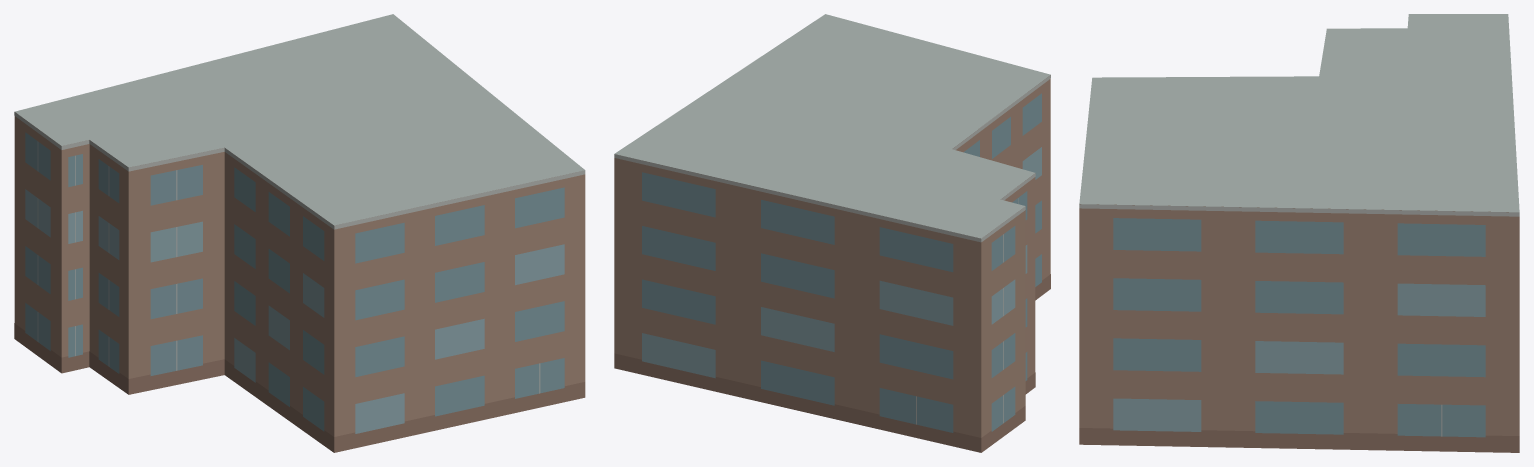
The model's file is survey-upis-33002607.glb.
3 renders of one model, left to right at view 1: azimuth 30°, elevation 25°; view 2: azimuth 150°, elevation 25°; view 3: azimuth 270°, elevation 25°, orthographic. The views are drawn at different scales.
Visible parts, largest first — view 1: survey-upis-33002607.tmp; view 2: survey-upis-33002607.tmp; view 3: survey-upis-33002607.tmp.
Part boxes in pixels (left/top/right/bottom): survey-upis-33002607.tmp: left=14, top=14, right=585, bottom=452; survey-upis-33002607.tmp: left=614, top=14, right=1050, bottom=452; survey-upis-33002607.tmp: left=1079, top=14, right=1519, bottom=452.
Size of the model in its own units: 23.88 by 13.5 by 22.41.
